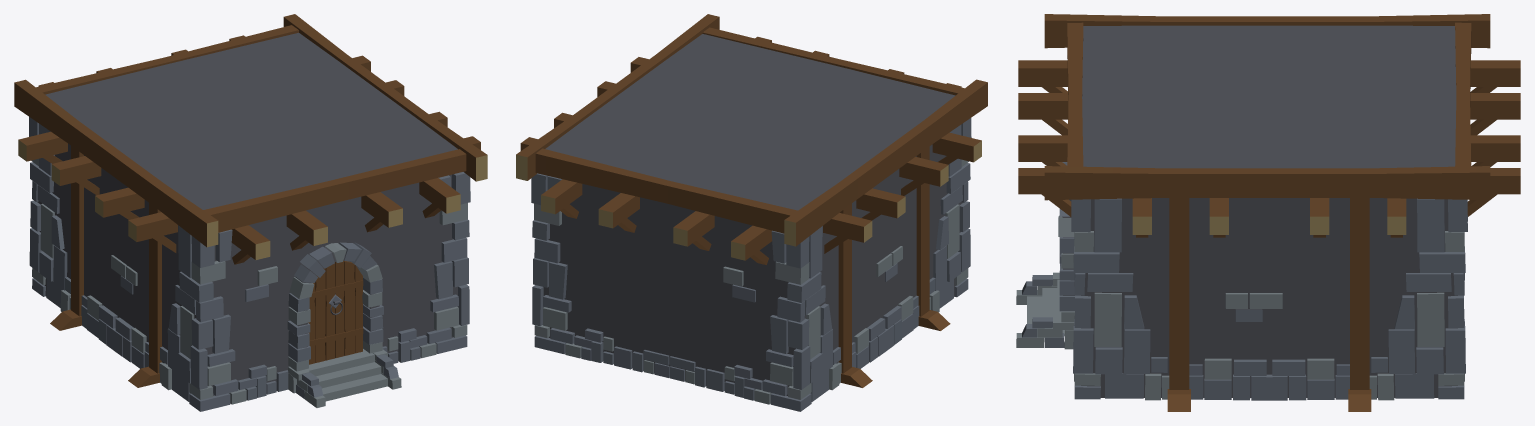
The model's file is House_4.glb.
3 renders of one model, left to right at view 1: azimuth 30°, elevation 25°; view 2: azimuth 150°, elevation 25°; view 3: azimuth 270°, elevation 25°, orthographic. The views are drawn at different scales.
Parts seen in each view (by area): view 1: House_4; view 2: House_4; view 3: House_4.
Part boxes in pixels (x1,y1,x2,y2): House_4: [14, 14, 487, 411]; House_4: [516, 14, 987, 411]; House_4: [1016, 14, 1520, 411].
Size of the model in its own units: 1.94 by 1.07 by 2.12.
Materials: 1 (1 with a texture image).
